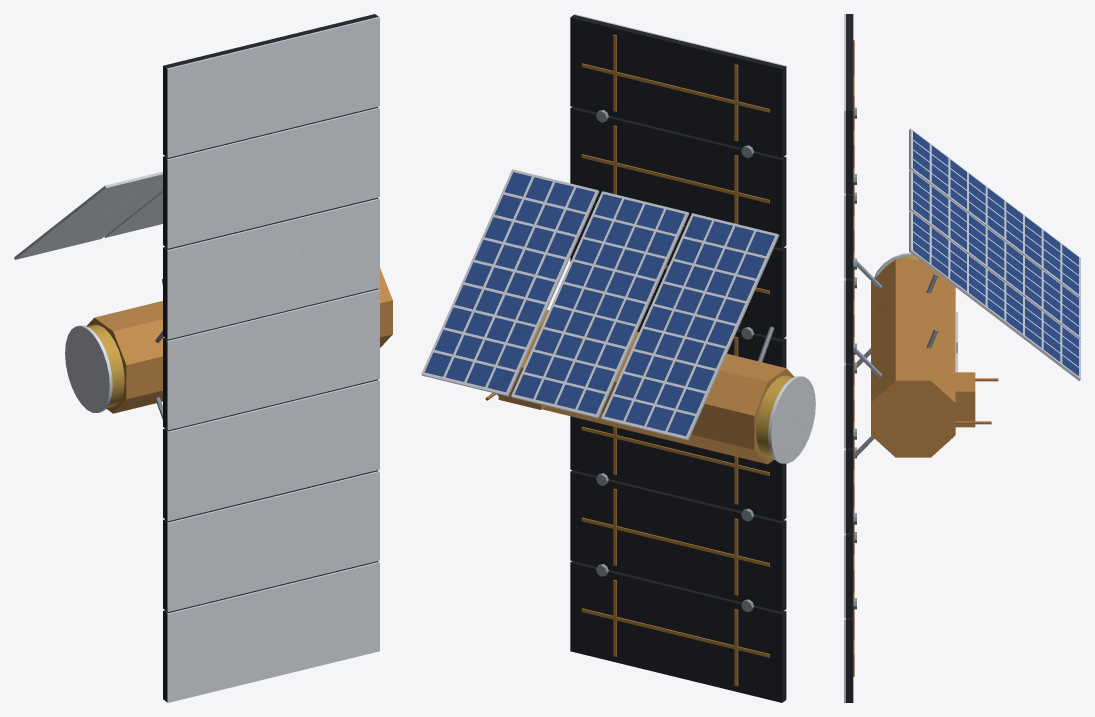
File: saocom.glb
The picture shows the model from 3 angles, left to right: view 1: azimuth 30°, elevation 25°; view 2: azimuth 150°, elevation 25°; view 3: azimuth 270°, elevation 25°; orthographic projection. The views are drawn at different scales.
Parts seen in each view (by area): view 1: body, foil; view 2: body, solar-panel, foil; view 3: solar-panel, body, foil.
Boxes of the visible parts, <box> form: body: <box>14,14,379,702</box>; foil: <box>86,268,392,413</box>; body: <box>421,14,815,702</box>; solar-panel: <box>424,172,774,435</box>; foil: <box>490,309,794,464</box>; solar-panel: <box>913,131,1078,376</box>; body: <box>844,14,1080,702</box>; foil: <box>871,256,975,457</box>.
Bounding box in the file's own units: 4.67 × 10 × 3.62.
